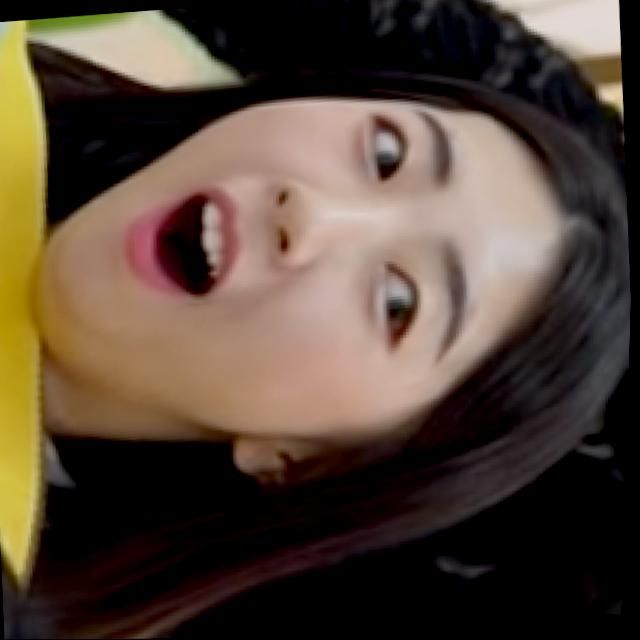face: (14, 79, 562, 463)
